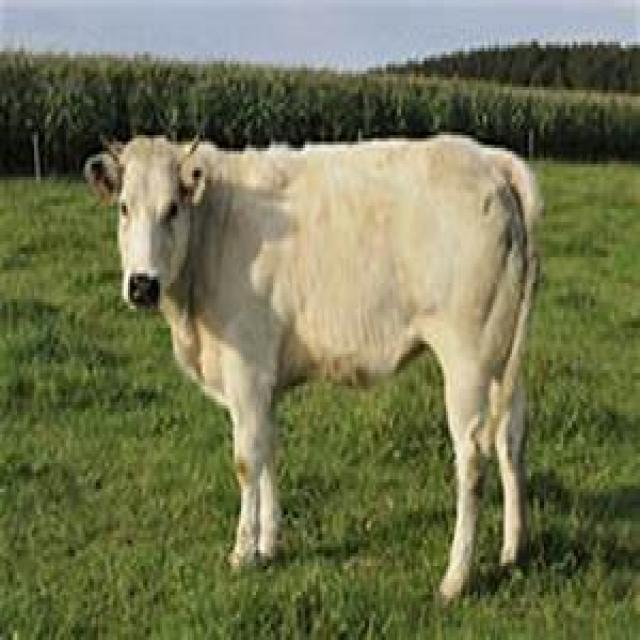cow: (86, 136, 541, 600)
